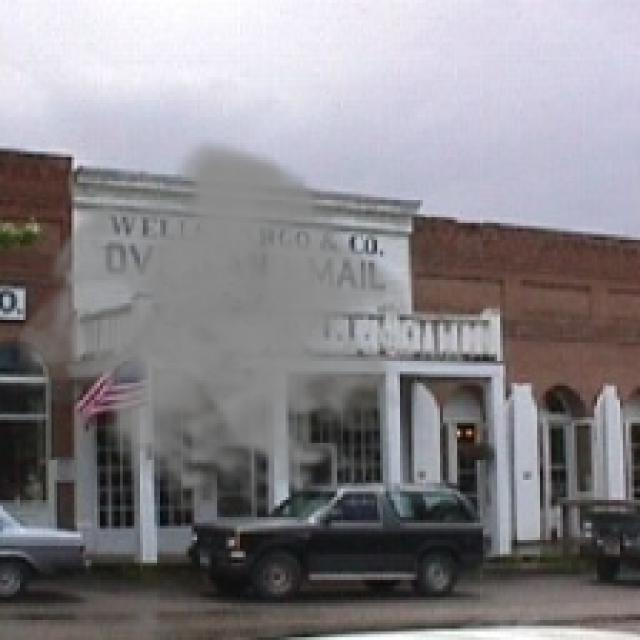smoke: (9, 137, 432, 514)
